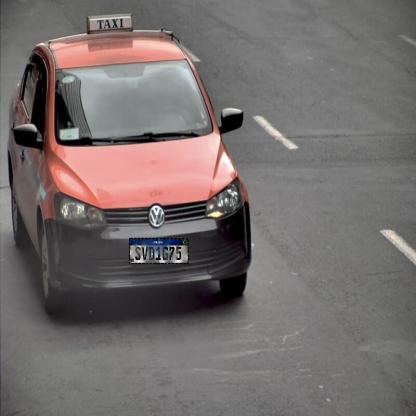PlacaM: (129, 238, 189, 264)
